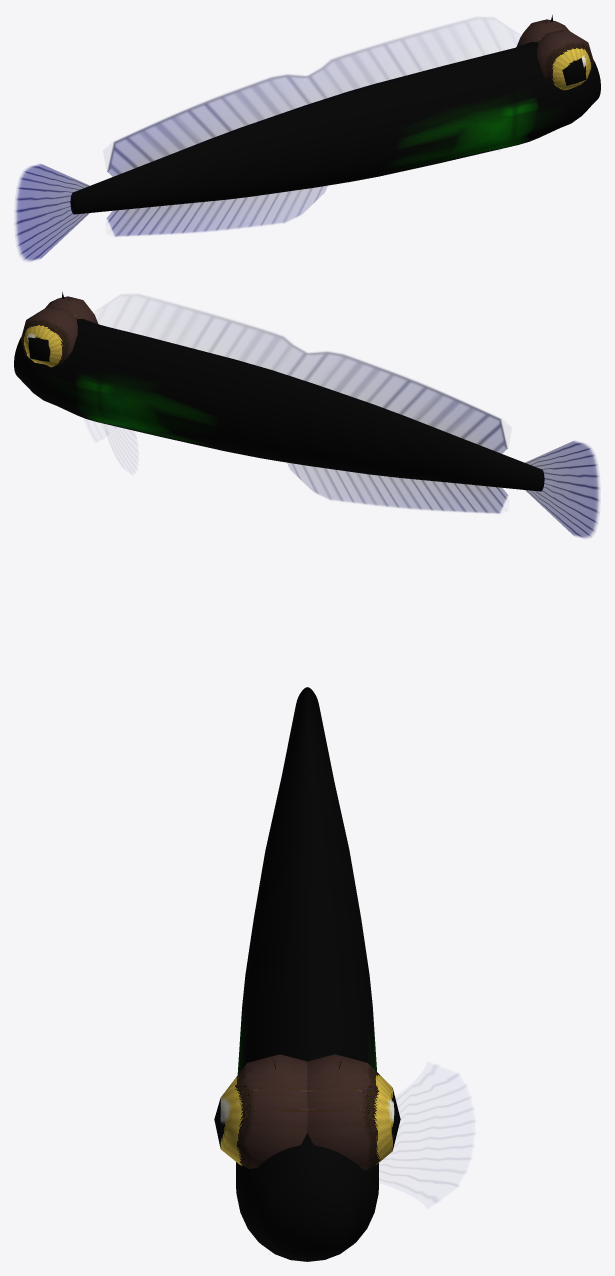
File: tailspot_blenny_lod1.glb
3 views of the same model, one above another, from view 1: azimuth 30°, elevation 25°; view 2: azimuth 150°, elevation 25°; view 3: azimuth 270°, elevation 25° (orthographic). The views are drawn at different scales.
Visible parts, largest first — view 1: Body, FinDorsal, FinAnal, FinCaudal, EyeR, EyeL; view 2: Body, FinDorsal, FinAnal, FinCaudal, EyeL, EyeR; view 3: Body, EyeL, EyeR.
Boxes of the visible parts, x1,y1,x2,y2 form: Body: (70,15,600,214); FinDorsal: (107,24,454,176); FinAnal: (106,186,327,236); FinCaudal: (15,164,89,260); EyeR: (537,29,593,90); EyeL: (516,19,569,47); Body: (14,292,544,491); FinDorsal: (160,301,507,453); FinAnal: (287,463,508,513); FinCaudal: (525,441,599,537); EyeL: (21,306,77,367); EyeR: (45,296,98,324); Body: (236,687,378,1261); EyeL: (307,1054,400,1170); EyeR: (214,1054,307,1168).
Bounding box in the file's own units: 1 × 0.2651 × 0.2528.
Materials: 4 (3 with a texture image).
